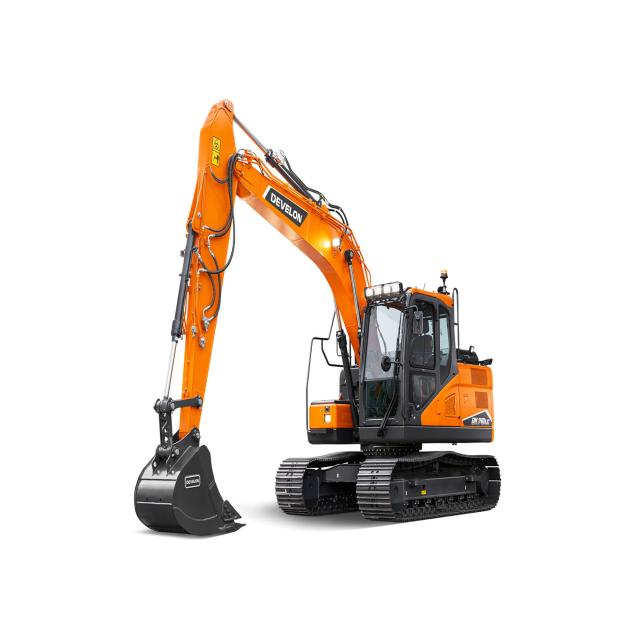excavator: (132, 96, 502, 538)
